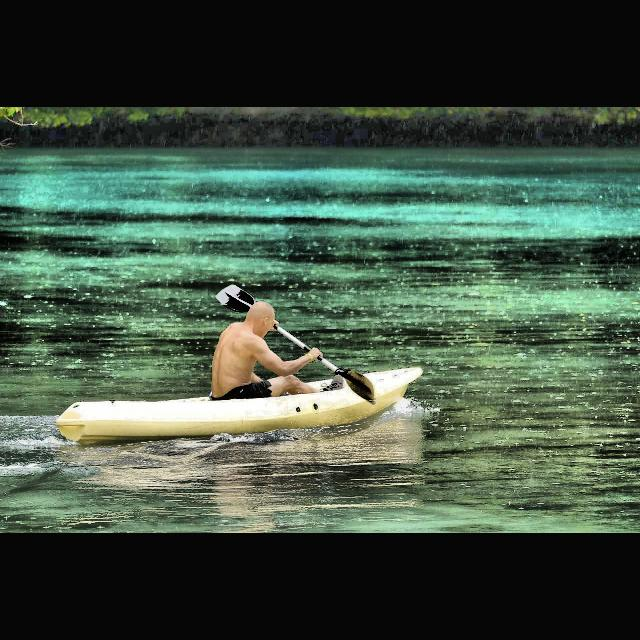kayak: (56, 366, 424, 446)
